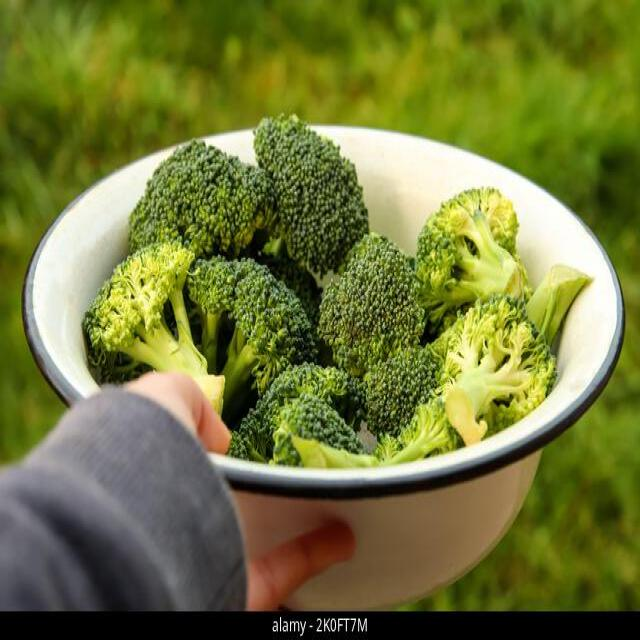broccoli: (84, 118, 561, 469), (414, 178, 528, 316)
